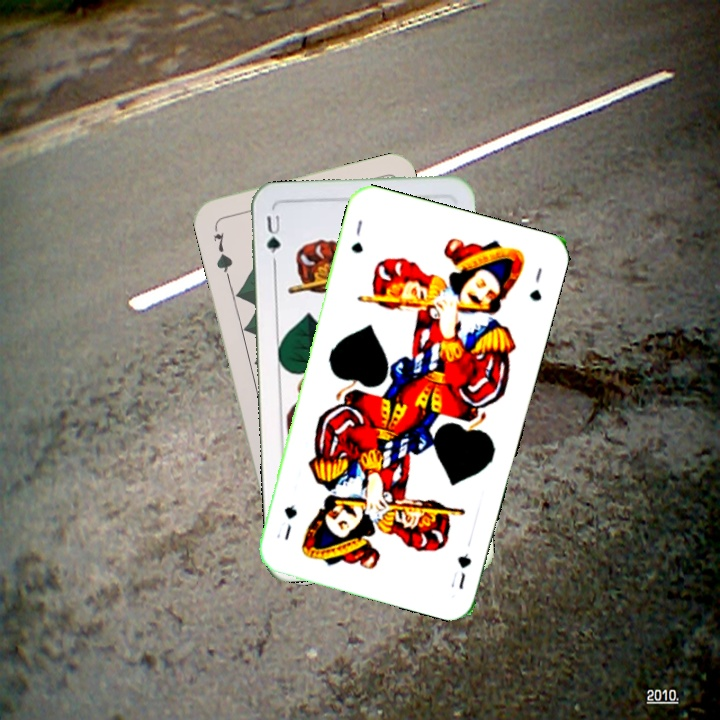G7: (209, 228, 235, 279)
GU: (262, 211, 284, 266), (453, 550, 474, 592), (346, 216, 366, 256)
